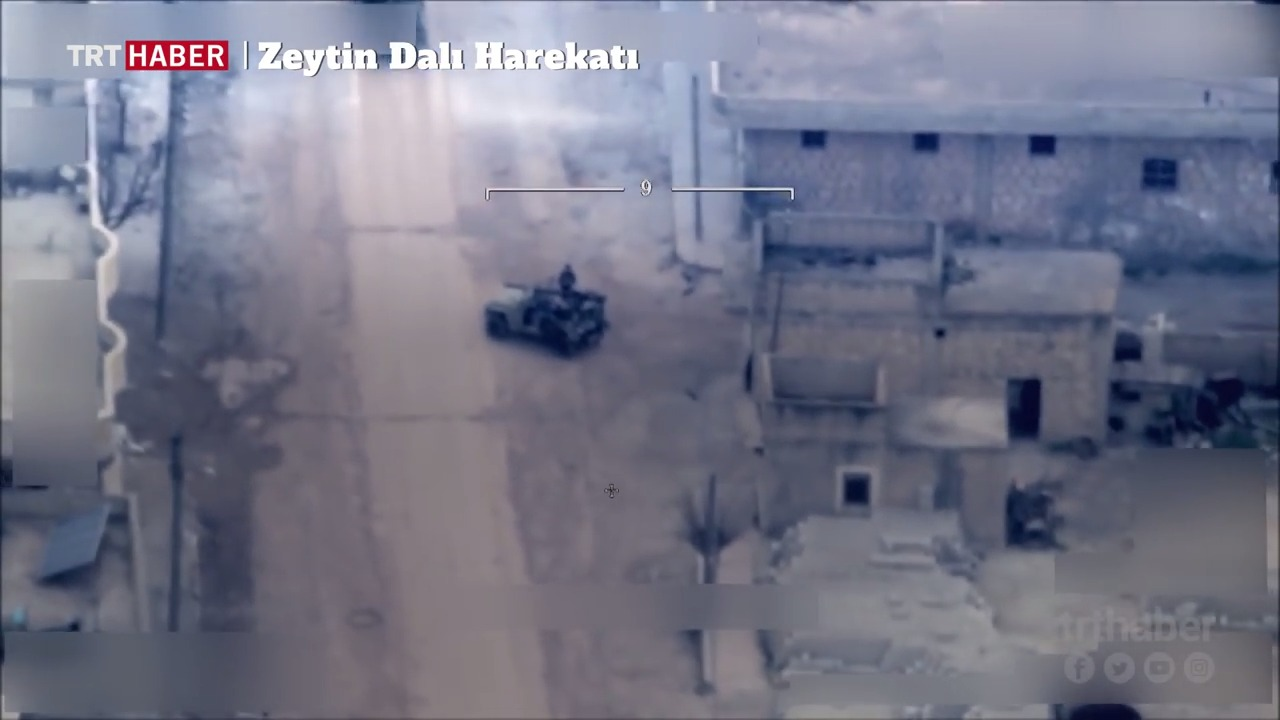arac: (483, 282, 609, 347)
bina: (723, 241, 1133, 478)
insan: (556, 259, 588, 292)
